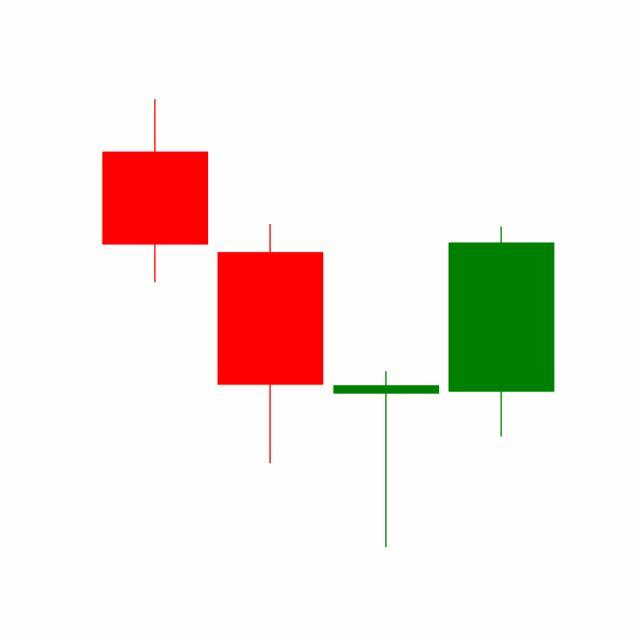Morning Doji Star: (211, 220, 555, 548)
